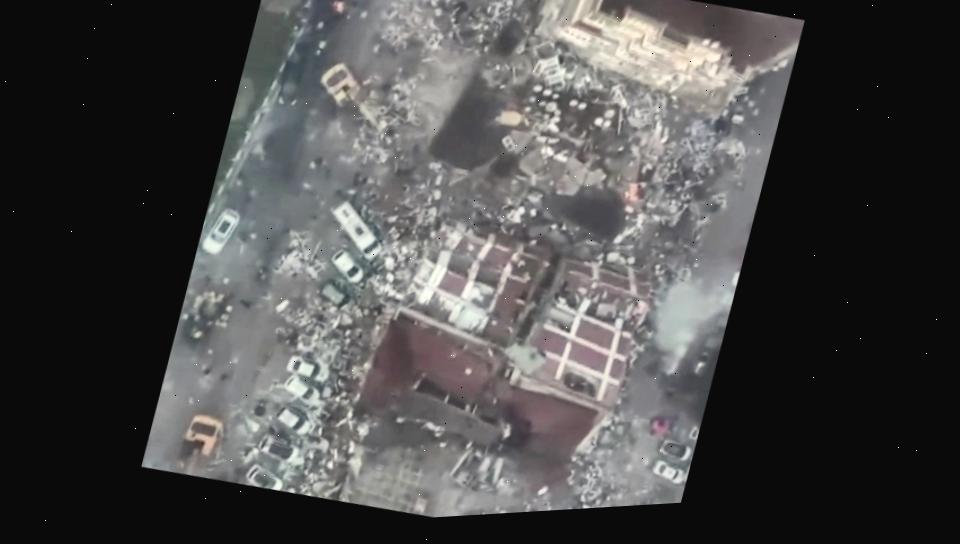kapali: (296, 0, 507, 89)
